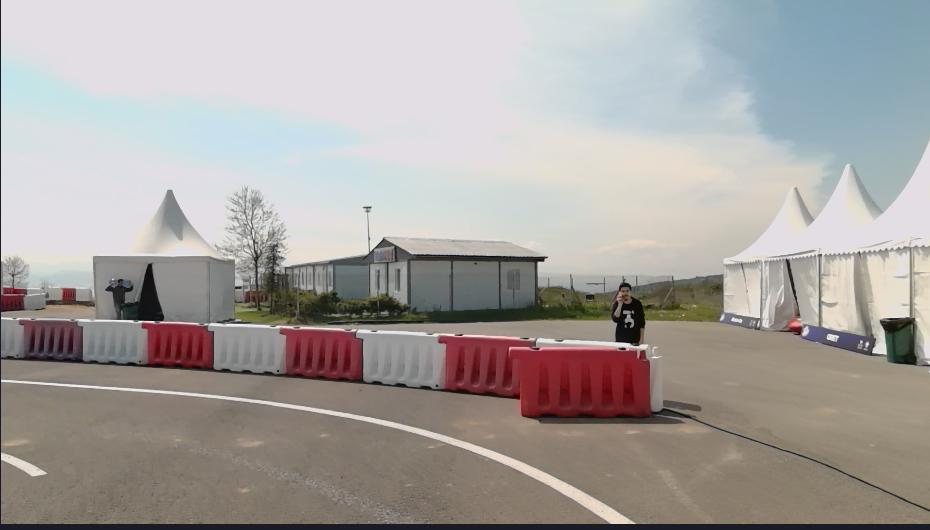nesne: (0, 375, 647, 527), (0, 375, 644, 525), (0, 378, 640, 525), (0, 316, 662, 416), (508, 345, 651, 416), (535, 336, 664, 413), (436, 331, 536, 398), (354, 328, 446, 388), (280, 326, 363, 381), (209, 322, 287, 375), (146, 320, 214, 371), (82, 318, 147, 365), (24, 318, 84, 362), (612, 283, 647, 346), (0, 448, 46, 479), (103, 278, 133, 322), (0, 317, 24, 358), (24, 286, 45, 310), (0, 292, 25, 311), (45, 286, 64, 303), (75, 287, 92, 304), (61, 286, 75, 303)
